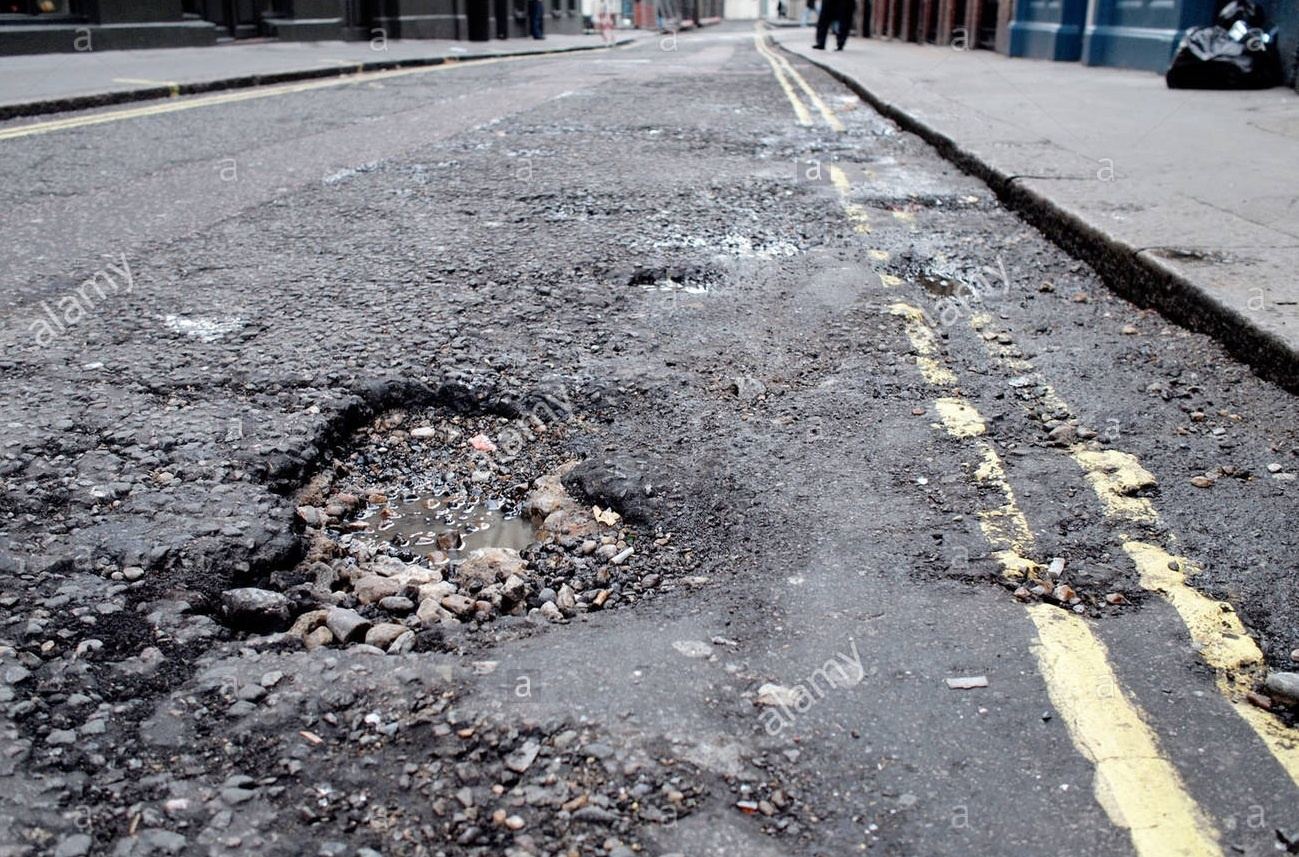pothole: (182, 291, 782, 717)
